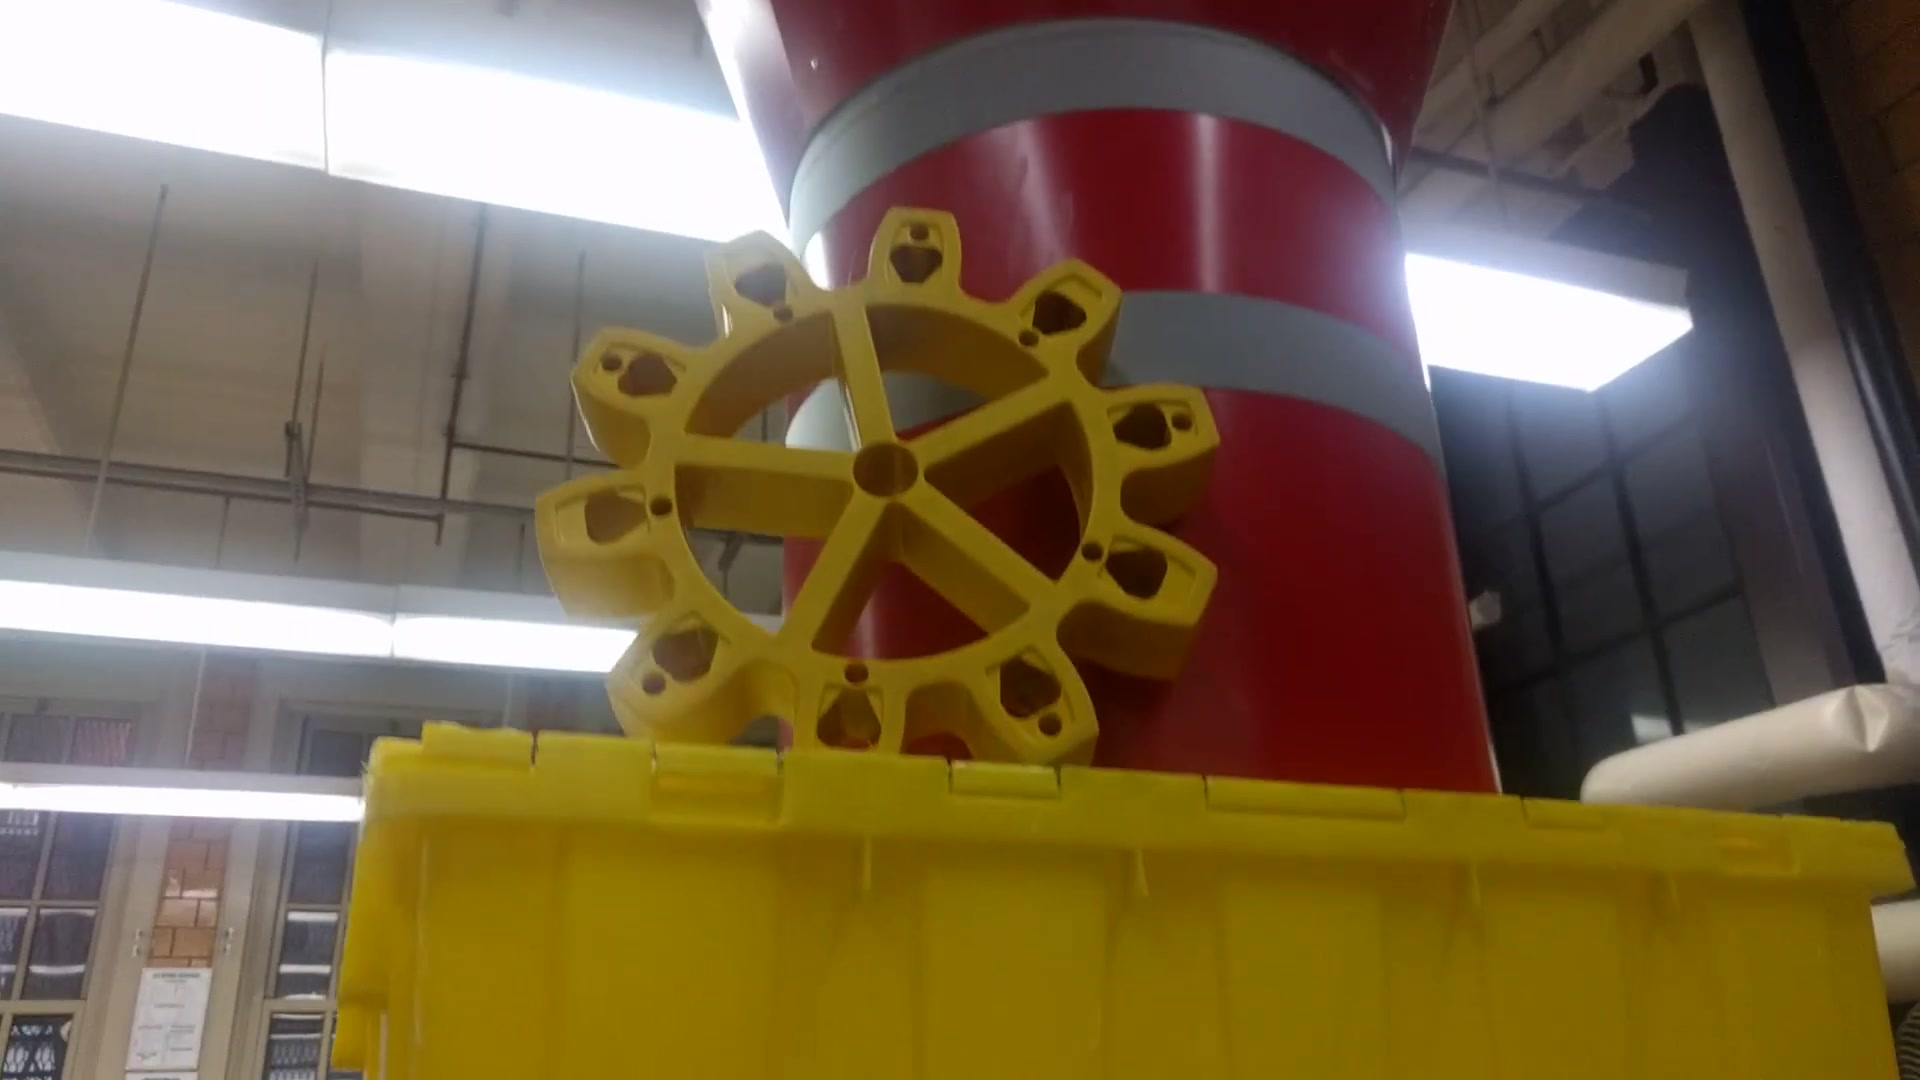gear: (520, 195, 1232, 762)
